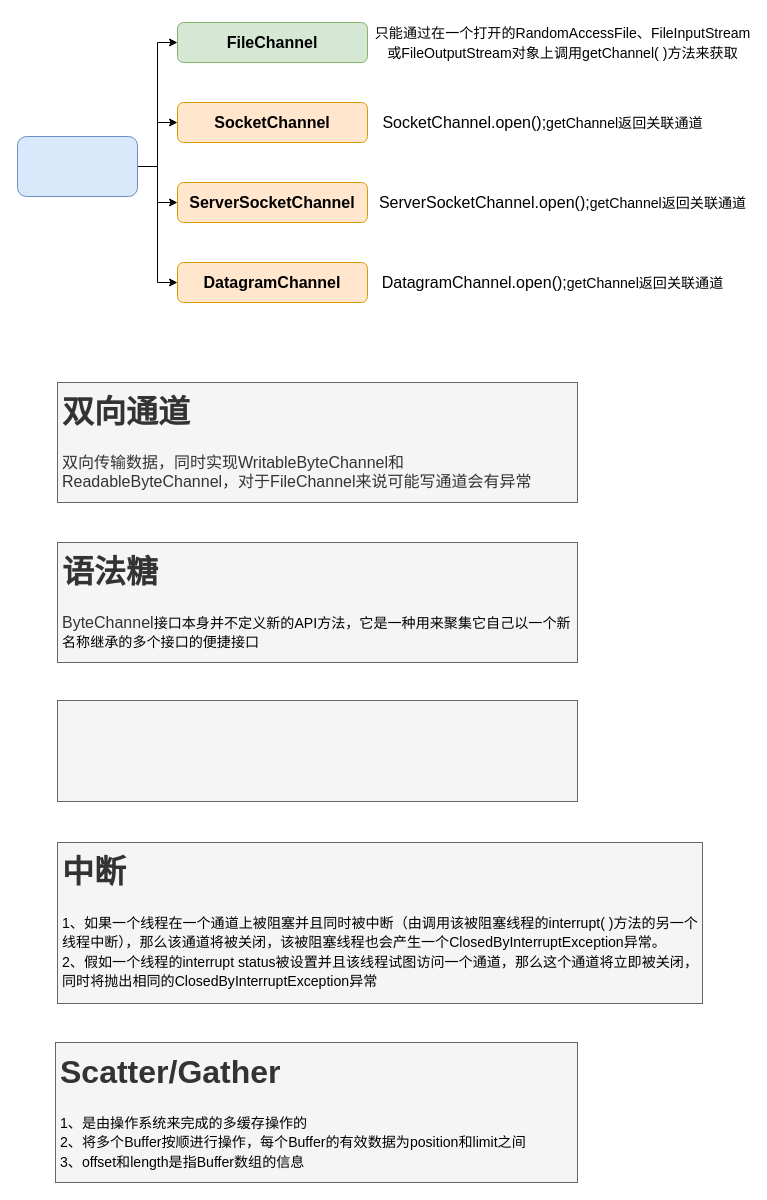
Some shapes in this 767 by 1200 pixel diagram are drawn without their labels. Each missing label, with the centre of its shape:
Channel: (77,166)
阻塞与非阻塞 只有面向 流的（ stream-oriented ）的通道，如 sockets 和 pipes 才能使用非阻塞模式。: (317,751)
